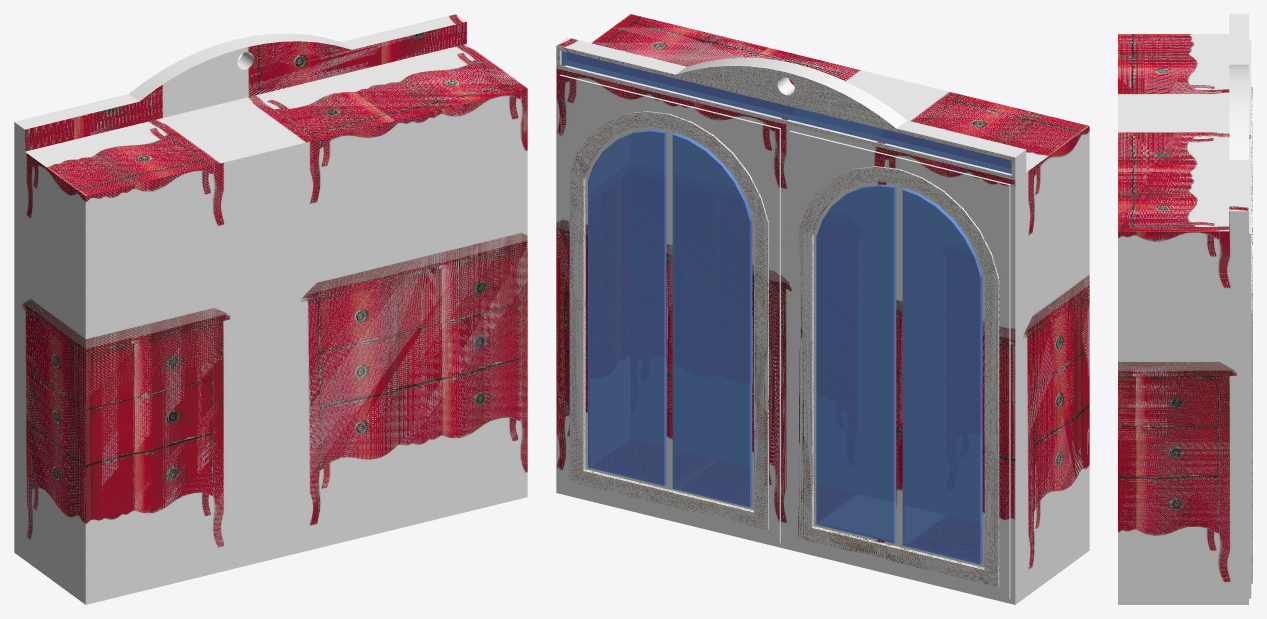
3 renders of one model, left to right at view 1: azimuth 30°, elevation 25°; view 2: azimuth 150°, elevation 25°; view 3: azimuth 270°, elevation 25°, orthographic. The views are drawn at different scales.
Visible parts, largest first — view 1: mesh1_mesh1-geometry; view 2: mesh1_mesh1-geometry; view 3: mesh1_mesh1-geometry.
Part boxes in pixels (bbox=[...]): mesh1_mesh1-geometry: bbox=[14, 14, 527, 604]; mesh1_mesh1-geometry: bbox=[556, 14, 1089, 604]; mesh1_mesh1-geometry: bbox=[1118, 14, 1252, 604].
Size of the model in its own units: 0.6953 by 0.69 by 0.2011.
